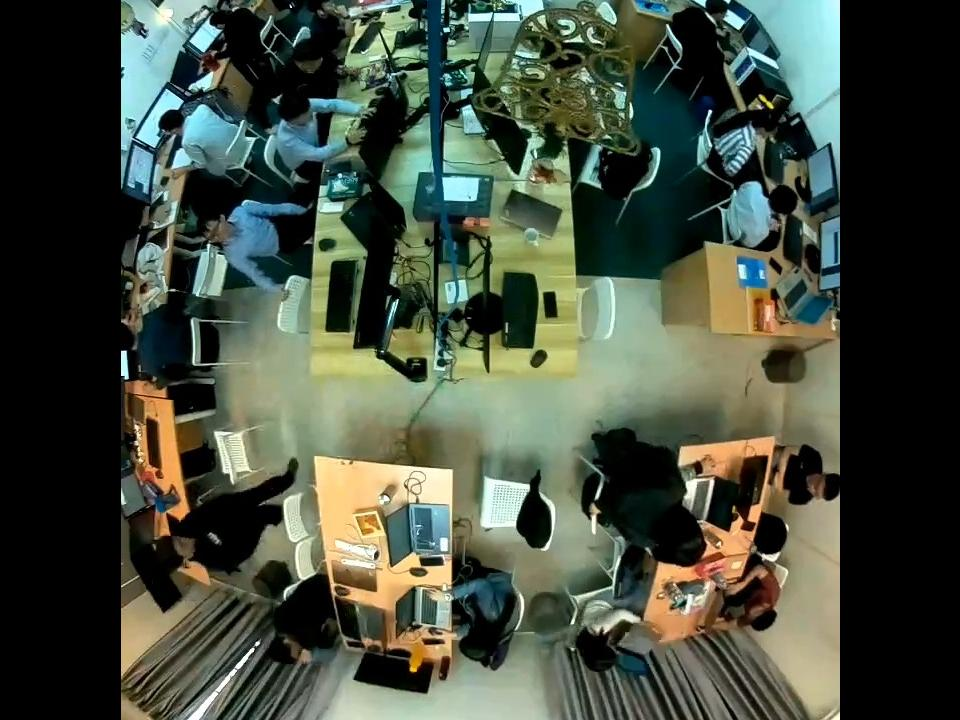name-tag: (202, 529, 222, 548)
